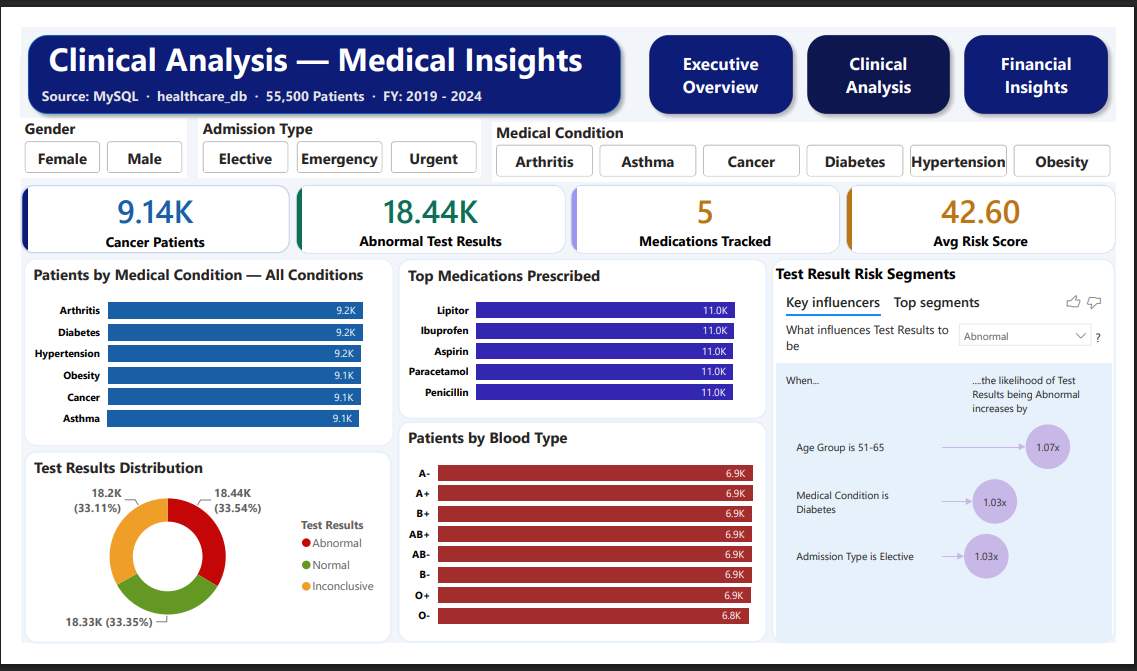

Layout of this report page (visuals, bound fields, positions):
{"tool":"powerbi","page":{"name":"Clinical Analysis","canvas":[1280,720],"ordinal":1},"visuals":[{"type":"cardVisual","fields":{"Data":["healthcare_db healthcare.Cancer Patients"]},"box":[0,184.3,315,80],"z":0},{"type":"cardVisual","fields":{"Data":["healthcare_db healthcare.Abnormal Count"]},"box":[321.7,184.3,315,80],"z":1000},{"type":"cardVisual","fields":{"Data":["healthcare_db healthcare.Naya measure:Total Medications"]},"box":[643.3,184.3,315,80],"z":2000},{"type":"advancedSlicerVisual","fields":{"Values":["healthcare_db healthcare.Gender"]},"box":[0,106.2,195,70],"z":3000},{"type":"advancedSlicerVisual","fields":{"Values":["healthcare_db healthcare.Admission_Type"]},"box":[208.1,106.2,330,70],"z":4000},{"type":"cardVisual","fields":{"Data":["healthcare_db healthcare.Risk Score"]},"box":[965,184.3,315,80],"z":5000},{"type":"advancedSlicerVisual","fields":{"Values":["healthcare_db healthcare.Medical_Condition"]},"box":[551.1,110.5,729.1,70],"z":6000},{"type":"actionButton","box":[726.3,0,184.6,109.8],"z":7000},{"type":"actionButton","box":[910.9,0,184.6,109.8],"z":8000},{"type":"actionButton","box":[1095,0,185,110],"z":9000},{"type":"shape","box":[0,0,710,110],"z":10000},{"type":"textbox","box":[27.7,6,666,63.9],"z":11000},{"type":"textbox","box":[20,63.8,697.5,42.5],"z":12000},{"type":"barChart","fields":{"Y":["healthcare_db healthcare.Total Patients"],"Category":["healthcare_db healthcare.Medical_Condition"]},"box":[3.7,269.7,432,218.9],"z":13000},{"type":"keyDriversVisual","title":"Test Result Risk Segments","fields":{"ExplainBy":["healthcare_db healthcare.Medical_Condition","healthcare_db healthcare.Admission_Type","healthcare_db healthcare.Age_Group"],"Target":["healthcare_db healthcare.Test_Results"]},"box":[878.2,269.7,402,450.3],"z":14000},{"type":"donutChart","title":"Test Results Distribution","fields":{"Category":["healthcare_db healthcare.Test_Results"],"Y":["CountNonNull(healthcare_db healthcare.Name)"]},"box":[3.7,494.8,430.5,225.1],"z":15000},{"type":"barChart","title":"Top Medications Prescribed","fields":{"Category":["healthcare_db healthcare.Medication"],"Y":["CountNonNull(healthcare_db healthcare.Name)"]},"box":[441.4,269.7,431.7,188],"z":16000},{"type":"barChart","title":"Patients by Blood Type","fields":{"Y":["CountNonNull(healthcare_db healthcare.Name)"],"Category":["healthcare_db healthcare.Blood_Type"]},"box":[441.4,460.1,431.7,258.5],"z":17000}]}

Visuals, with their boxes on the page's 1280x720 design canvas (x1, y1, x2, y2). These are canvas units, not pixel positions in the 1137x671 screenshot, which may show the page scaled, cropped or inside an application window:
cardVisual - healthcare_db healthcare.Cancer Patients: rect(0, 184, 315, 264)
cardVisual - healthcare_db healthcare.Abnormal Count: rect(322, 184, 637, 264)
cardVisual - healthcare_db healthcare.Naya measure:Total Medications: rect(643, 184, 958, 264)
advancedSlicerVisual - healthcare_db healthcare.Gender: rect(0, 106, 195, 176)
advancedSlicerVisual - healthcare_db healthcare.Admission_Type: rect(208, 106, 538, 176)
cardVisual - healthcare_db healthcare.Risk Score: rect(965, 184, 1280, 264)
advancedSlicerVisual - healthcare_db healthcare.Medical_Condition: rect(551, 110, 1280, 180)
actionButton: rect(726, 0, 911, 110)
actionButton: rect(911, 0, 1096, 110)
actionButton: rect(1095, 0, 1280, 110)
shape: rect(0, 0, 710, 110)
textbox: rect(28, 6, 694, 70)
textbox: rect(20, 64, 718, 106)
barChart - healthcare_db healthcare.Total Patients x healthcare_db healthcare.Medical_Condition: rect(4, 270, 436, 489)
"Test Result Risk Segments" keyDriversVisual: rect(878, 270, 1280, 720)
"Test Results Distribution" donutChart: rect(4, 495, 434, 720)
"Top Medications Prescribed" barChart: rect(441, 270, 873, 458)
"Patients by Blood Type" barChart: rect(441, 460, 873, 719)
